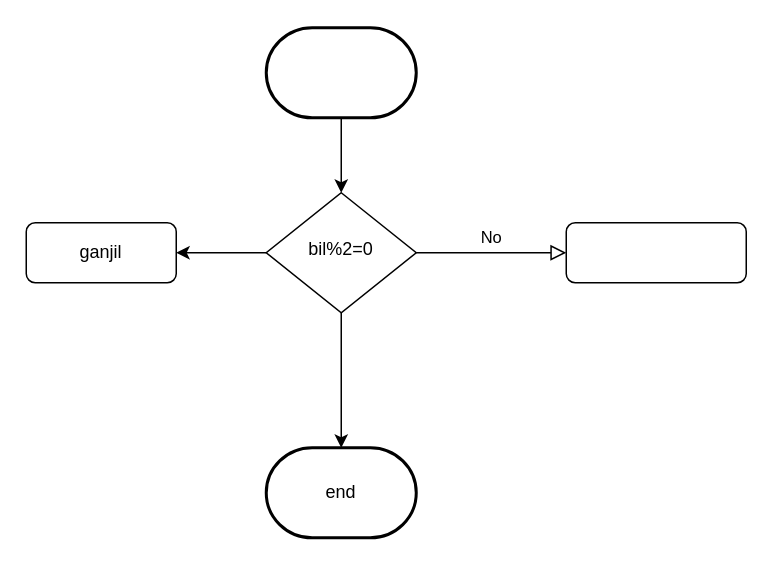
The diagram is 773 pixels wide and 564 high, and some of its shapes have lost their labels. The shapes that lost their labels are listed below. From the top down, each one's centre as x and y in pixels, then its label:
At [340,72]: "mulai".
At [655,252]: "genap".
